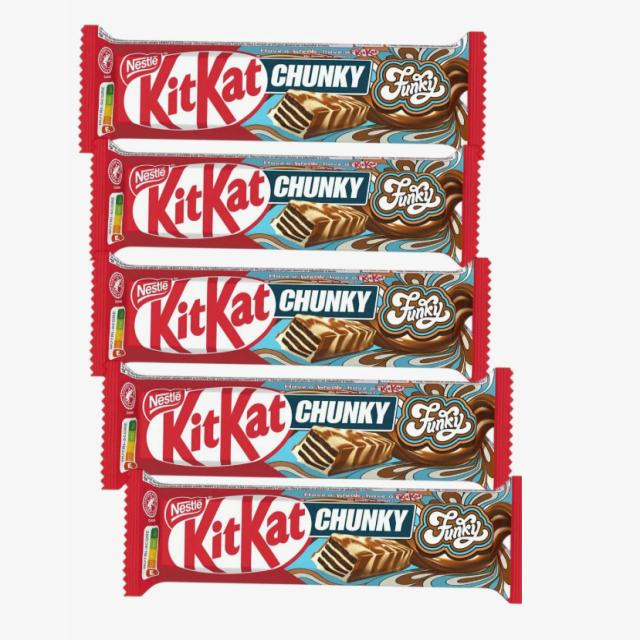supermarket-product: (140, 58, 322, 142)
